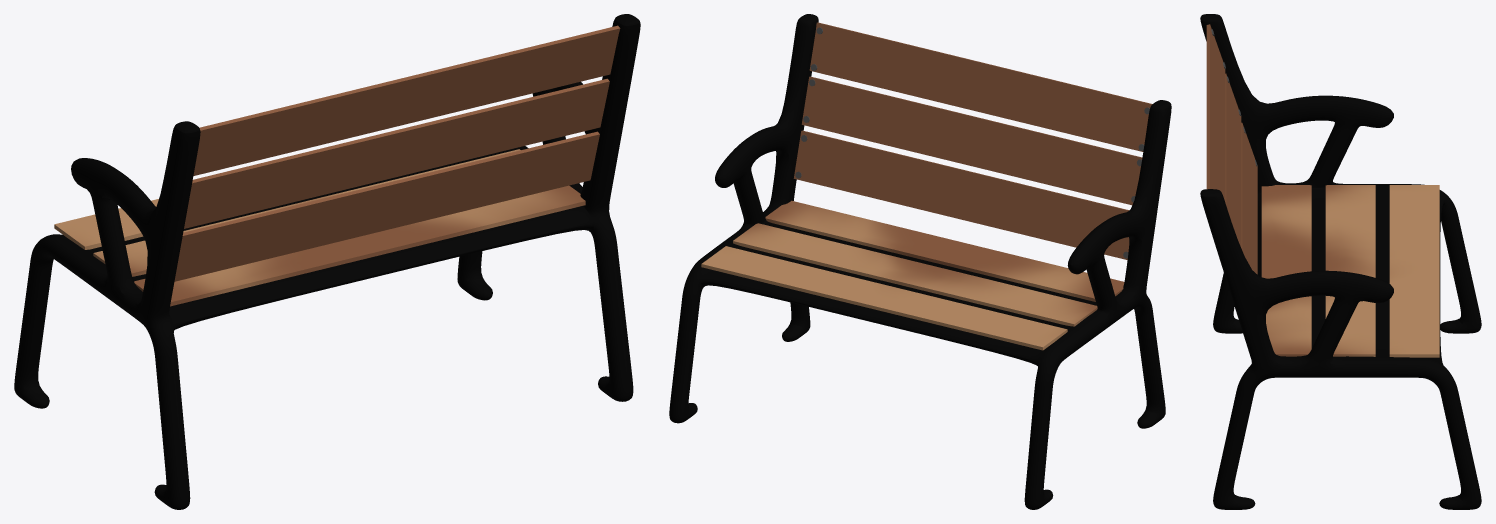
Rendered from bench.fbx.
3 views of the same model, side by side, from view 1: azimuth 30°, elevation 25°; view 2: azimuth 150°, elevation 25°; view 3: azimuth 270°, elevation 25° (orthographic). The views are drawn at different scales.
Visible parts, largest first — view 1: Cube.074; view 2: Cube.074; view 3: Cube.074.
Part boxes in pixels (x1,y1,x2,y2): Cube.074: (14,14,640,509); Cube.074: (669,14,1171,509); Cube.074: (1200,14,1481,509).
Size of the model in its own units: 140 by 112 by 90.35.
3 materials, 1 textured.
